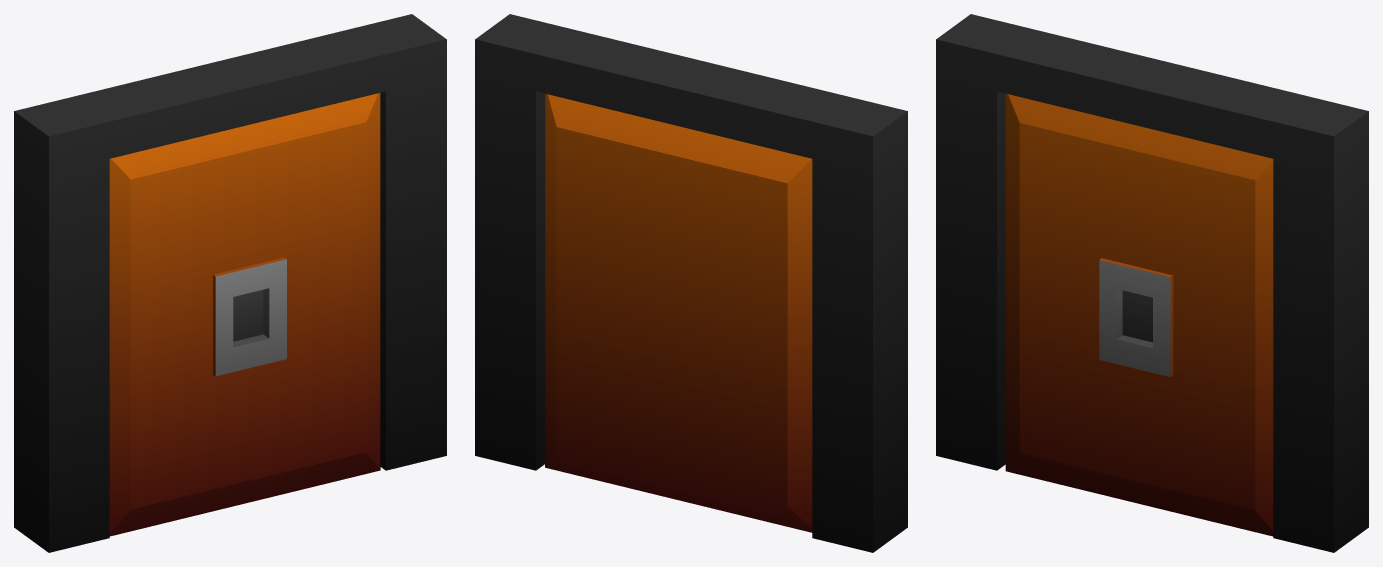
The model's file is Puerta.fbx.
3 views of the same model, side by side, from view 1: azimuth 30°, elevation 25°; view 2: azimuth 150°, elevation 25°; view 3: azimuth 330°, elevation 25° (orthographic).
Parts seen in each view (by area): view 1: Cube.001, Cube; view 2: Cube.001, Cube; view 3: Cube.001, Cube.
Boxes of the visible parts, x1,y1,x2,y2 form: Cube.001: (109,93,380,536); Cube: (14,14,446,552); Cube.001: (545,93,812,532); Cube: (475,14,907,552); Cube.001: (1005,93,1273,536); Cube: (936,14,1368,552).
Size of the model in its own units: 200 by 202 by 32.17.
